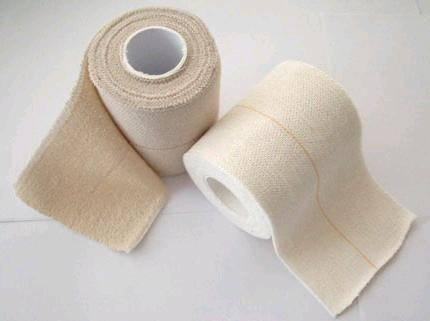bandage: (182, 59, 418, 318), (17, 8, 219, 256)
